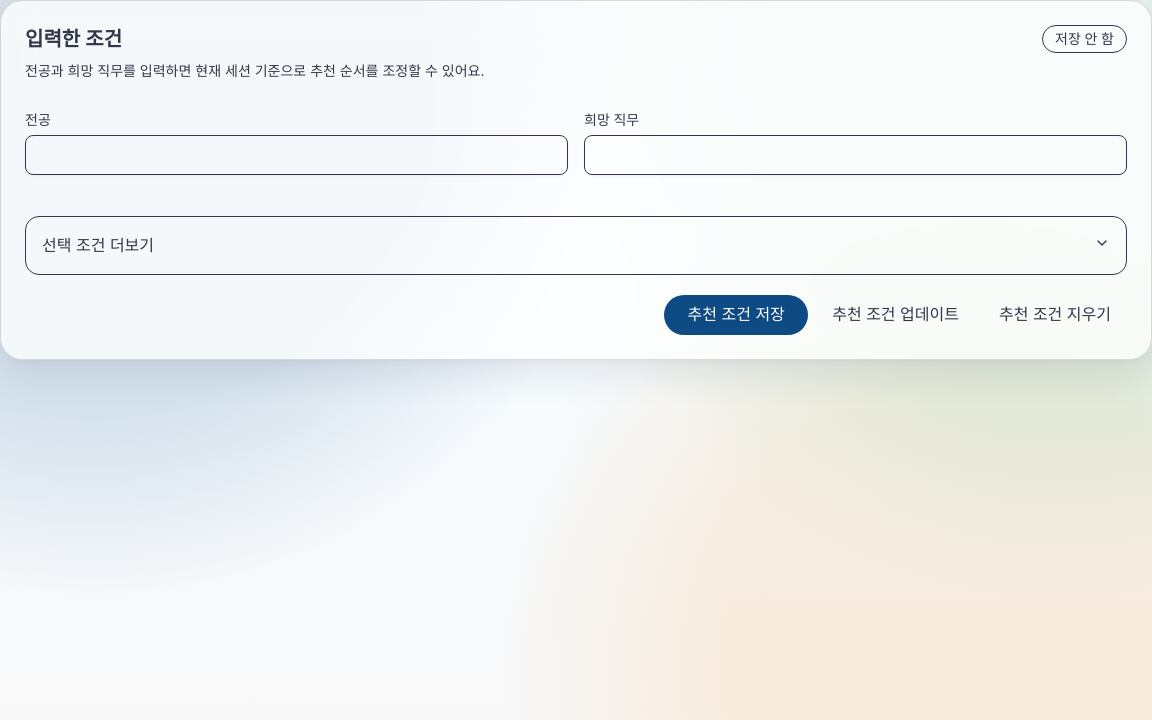
preference components › shows required fields first and enables save only when complete
Expected: the field labelled "희망 직무" is shown, left=584, top=135, right=1127, bottom=175
Expected: the button "추천 조건 저장" is disabled, left=664, top=295, right=808, bottom=335
Type "컴퓨터학부" into the field labelled "전공" at (296, 155), box left=25, top=135, right=568, bottom=175
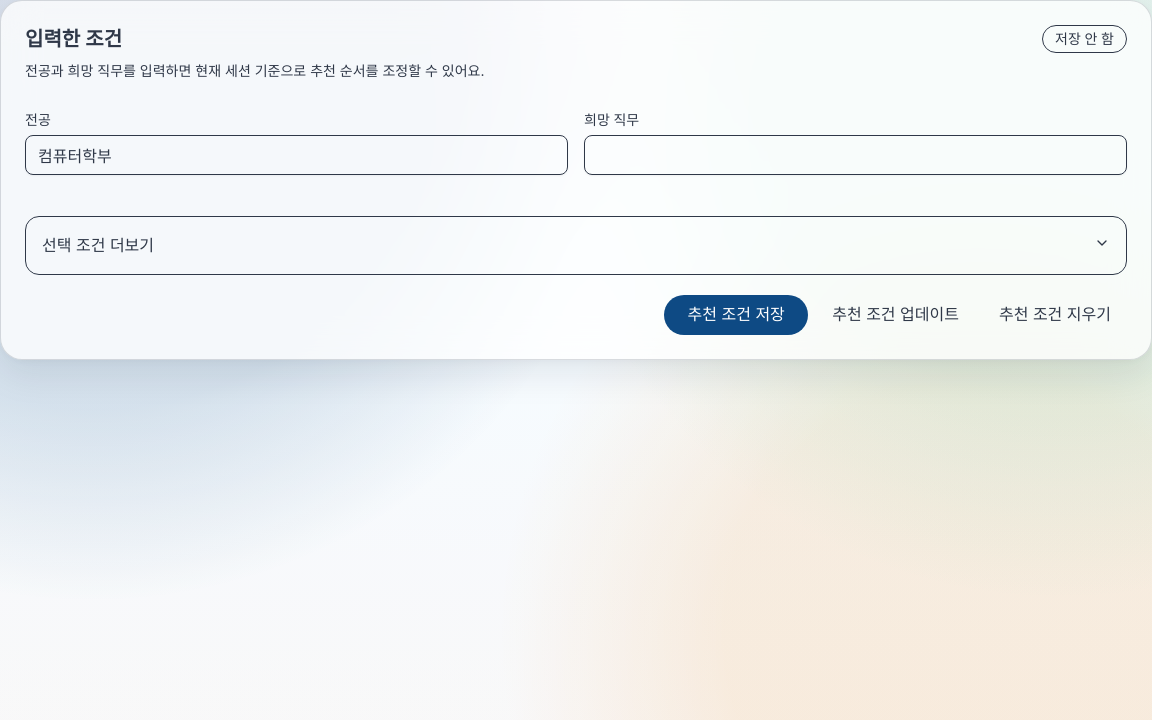
Type "백엔드 개발자" into the field labelled "희망 직무" at (856, 155), box left=584, top=135, right=1127, bottom=175
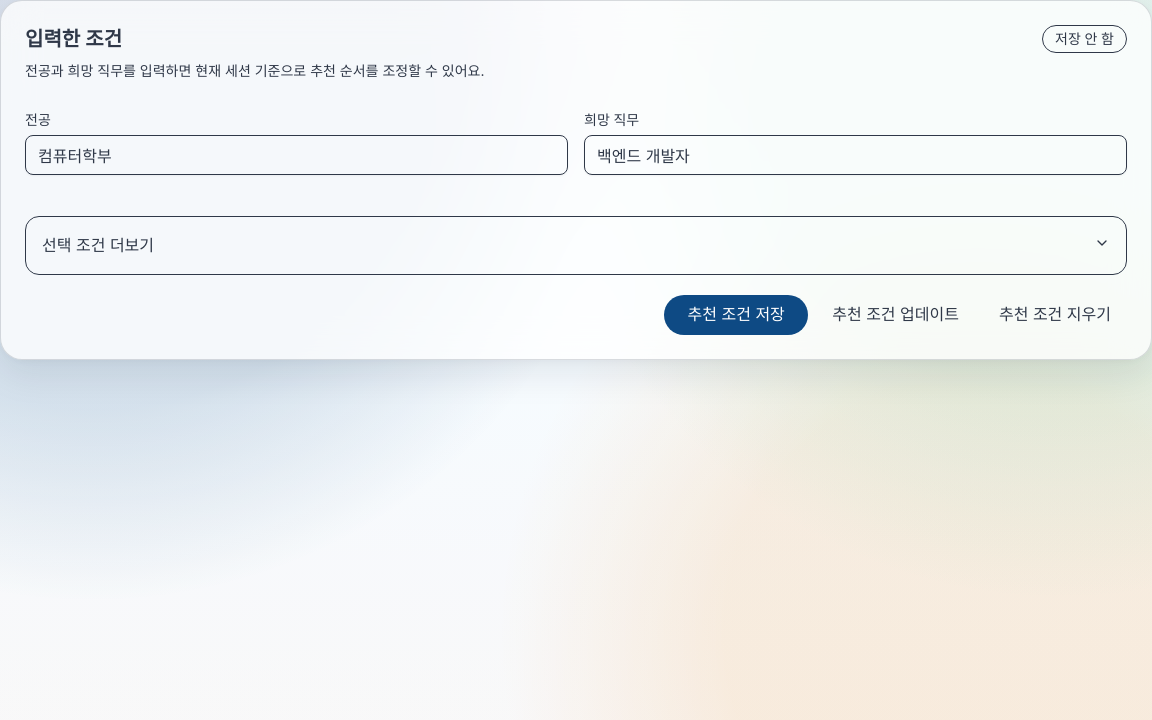
Expected: the button "추천 조건 저장" is enabled, left=664, top=295, right=808, bottom=335
Click the button "선택 조건 더보기" at (98, 245), box left=42, top=217, right=1110, bottom=274
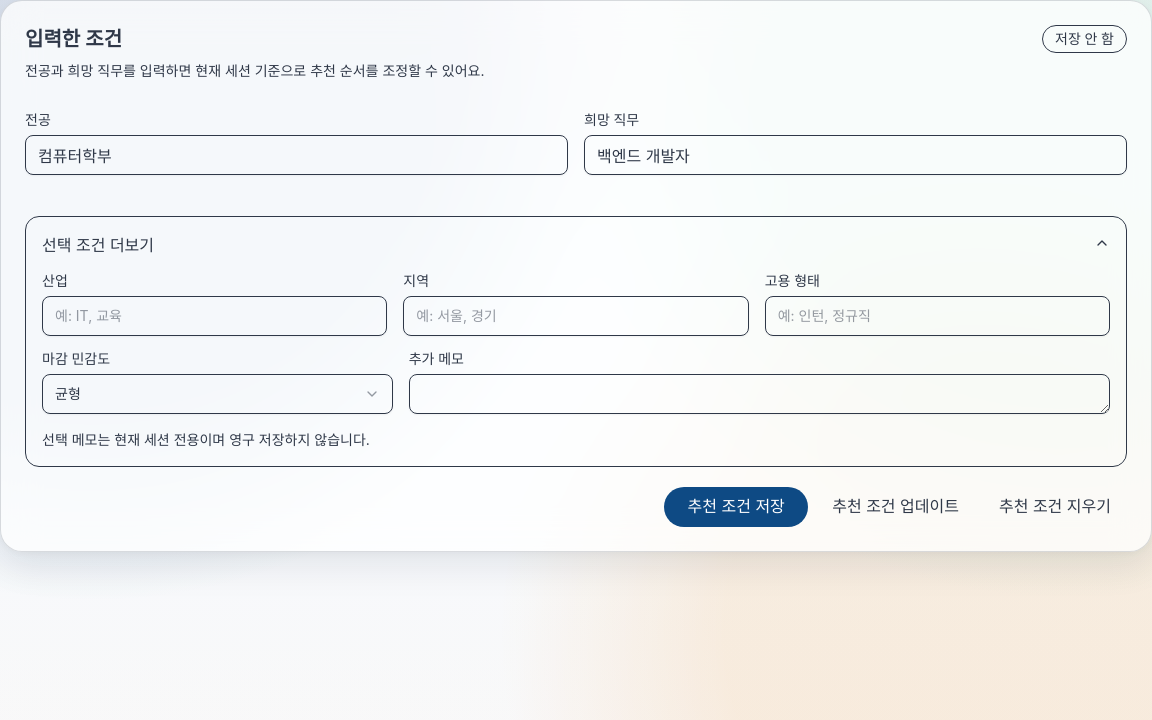
Now the button "선택 조건 더보기" is expanded, box left=42, top=217, right=1110, bottom=274
Now the text "선택 메모는 현재 세션 전용이며 영구 저장하지 않습니다." is shown, box left=42, top=431, right=370, bottom=448
